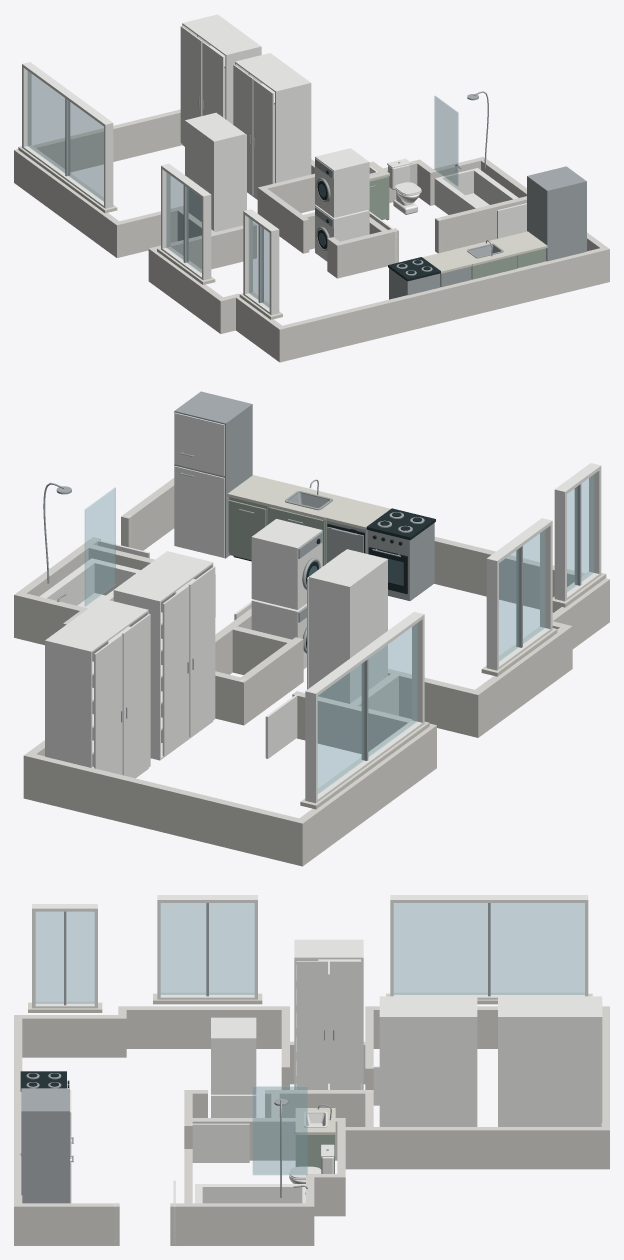
The model's file is spera-cutaway.glb.
3 renders of one model, top to bottom at view 1: azimuth 30°, elevation 25°; view 2: azimuth 150°, elevation 25°; view 3: azimuth 270°, elevation 25°, orthographic. The views are drawn at different scales.
Visible parts, largest first — view 1: Wall (×19), Window glazing (×3), Closet door (×4), Closet side (×3), Window jamb (×6), Refrigerator body, Closet cap (×3), Dryer housing, Window rail (×3), Closet back, Glass shower screen, Basin side (×2) (+11 smaller); view 2: Wall (×19), Closet door (×4), Window glazing (×3), Closet side (×3), Window jamb (×6), Closet cap (×3), Dryer housing, Refrigerator lower door, Closet back, Refrigerator body, Window rail (×3), Glass shower screen (+16 smaller); view 3: Wall (×21), Window glazing (×3), Closet back (×3), Closet door (×2), Refrigerator body, Closet cap (×3), Window rail (×6), Glass shower screen, Dryer housing, Painted door leaf, Basin side, Washer housing (+4 smaller).
Part boxes in pixels (x1,y1,x2,y2): Wall (×19): (14, 109, 609, 361); Window glazing (×3): (27, 71, 269, 307); Closet door (×4): (180, 26, 273, 198); Closet side (×3): (213, 46, 311, 231); Window jamb (×6): (22, 65, 279, 314); Refrigerator body: (527, 166, 586, 261); Closet cap (×3): (183, 15, 309, 141); Dryer housing: (315, 148, 369, 217); Window rail (×3): (22, 62, 211, 208); Closet back: (185, 120, 215, 231); Glass shower screen: (434, 96, 458, 186); Basin side (×2): (434, 168, 518, 214); Wall (×19): (14, 478, 609, 866); Closet door (×4): (94, 566, 215, 777); Window glazing (×3): (318, 475, 594, 793); Closet side (×3): (45, 576, 349, 767); Window jamb (×6): (305, 469, 601, 802); Closet cap (×3): (47, 550, 386, 652); Dryer housing: (251, 519, 322, 609); Refrigerator lower door: (174, 466, 224, 557); Closet back: (348, 559, 387, 703); Refrigerator body: (174, 391, 252, 558); Window rail (×3): (305, 518, 552, 803); Glass shower screen: (85, 487, 115, 606); Wall (×21): (14, 1006, 609, 1245); Window glazing (×3): (36, 903, 584, 1003); Closet back (×3): (294, 939, 602, 1126); Closet door (×2): (296, 961, 361, 1089); Refrigerator body: (21, 1088, 69, 1203); Closet cap (×3): (296, 939, 600, 1018); Window rail (×6): (32, 895, 588, 1008); Glass shower screen: (253, 1086, 307, 1174); Dryer housing: (211, 1017, 256, 1094); Painted door leaf: (190, 1123, 249, 1162); Basin side: (195, 1184, 305, 1203); Washer housing: (211, 1094, 256, 1117).
Bounding box in the file's own units: 6.88 × 2.38 × 8.57.
